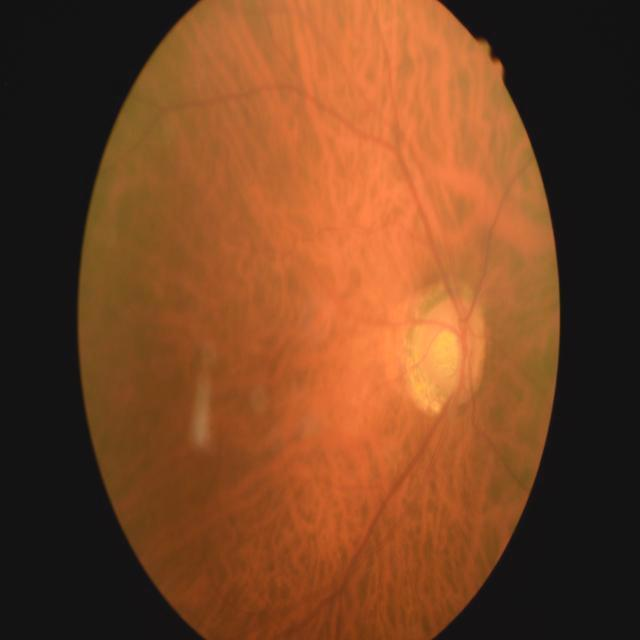cup: (429, 320, 469, 390)
disk: (418, 300, 483, 404)
